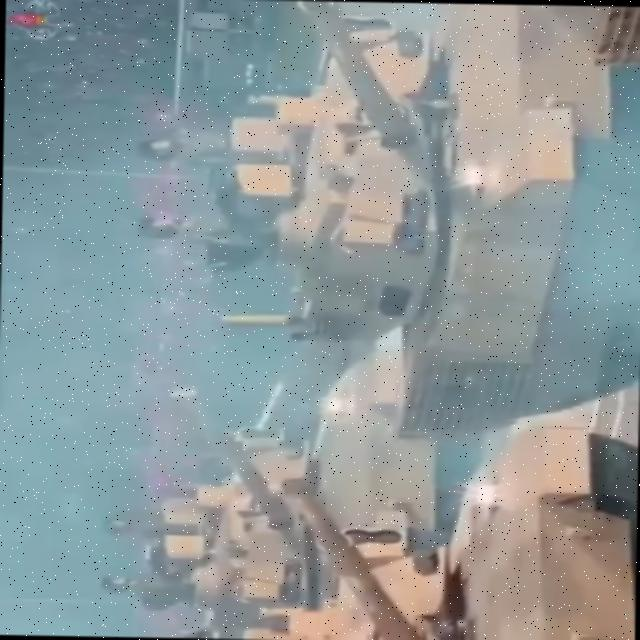north tank: (116, 0, 640, 443), (131, 328, 472, 616), (204, 425, 638, 640)
